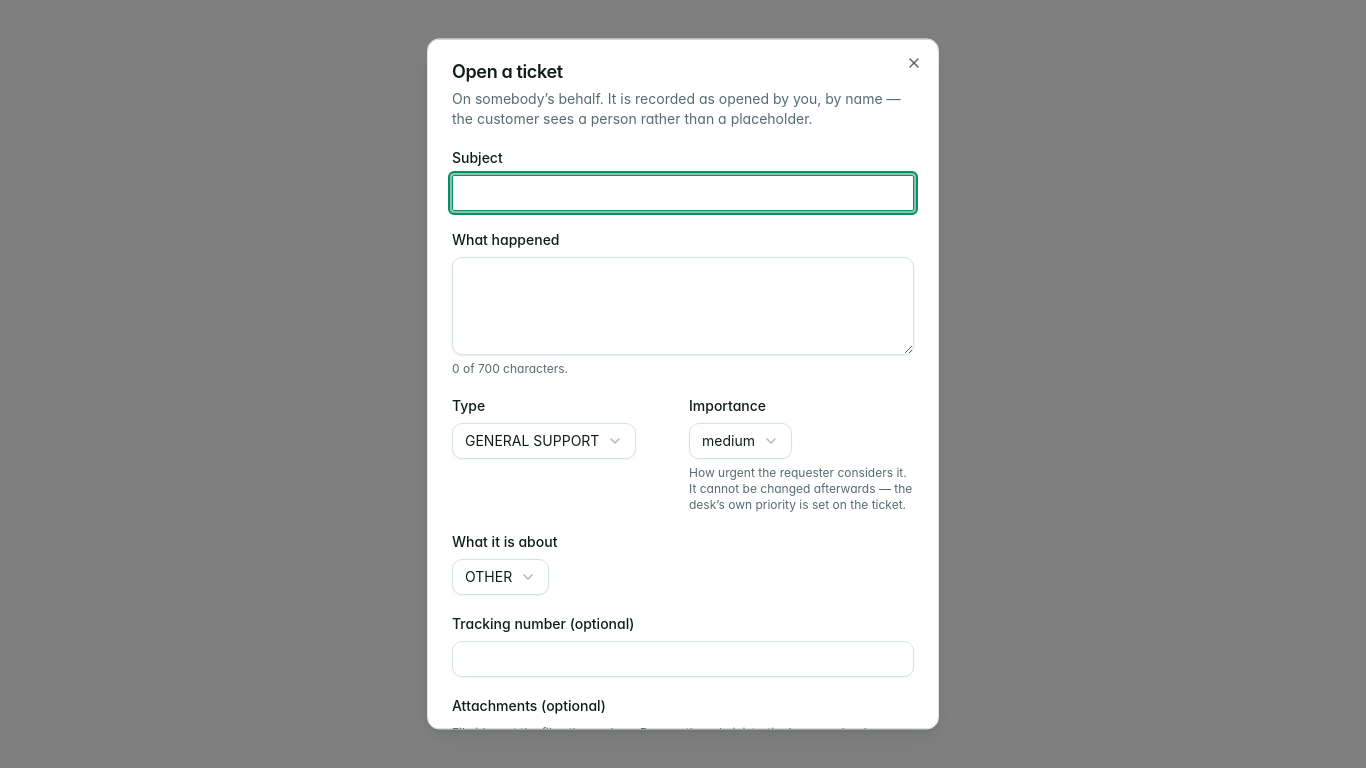
Scenario: the entityId rule wi-admin does not enforce › blocks the submit when an entity type needs an id and has none
The image size is (1366, 768).
Type "Payout has not arrived" into the field labelled "Subject" at coordinates (683, 193), box [452,175,914,211]
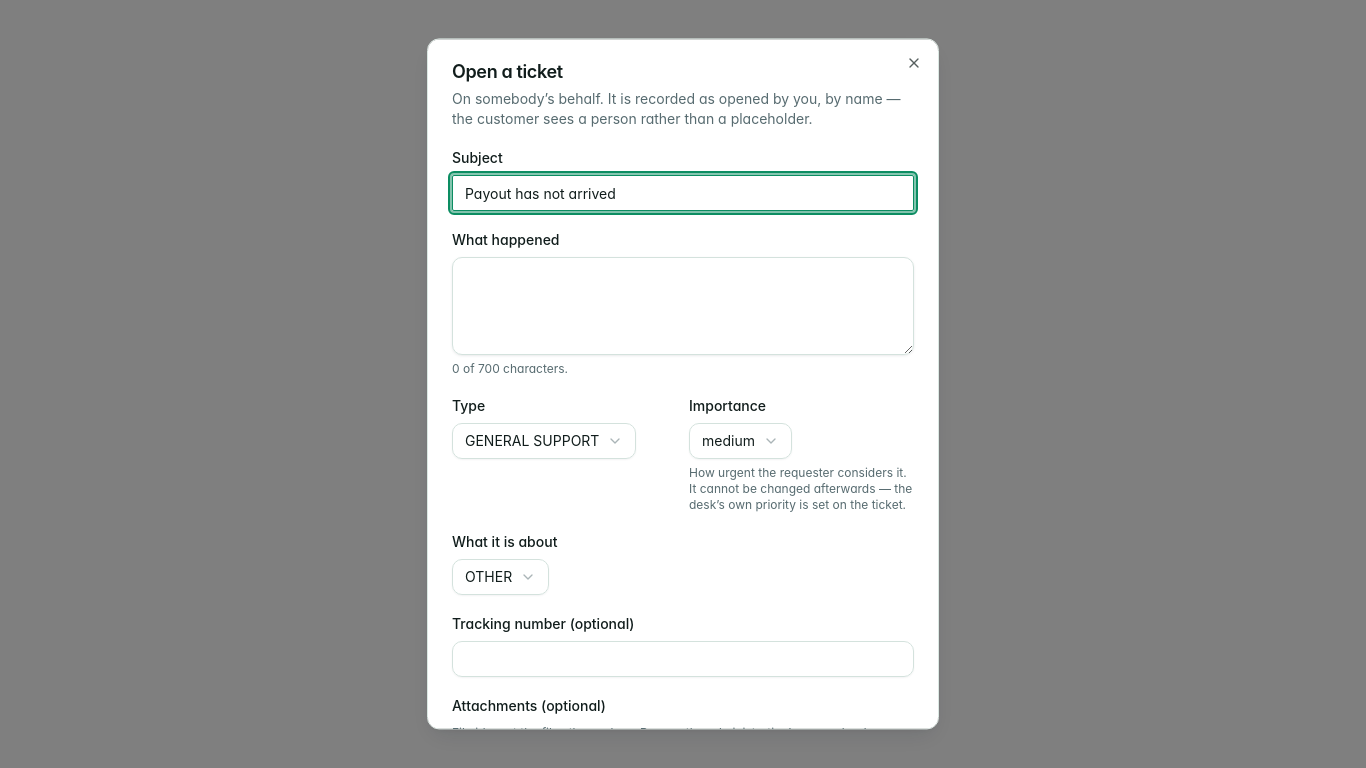
Type "Opened on the vendor’s behalf." into the text box labelled "What happened" at coordinates (683, 306), box [452,257,914,355]
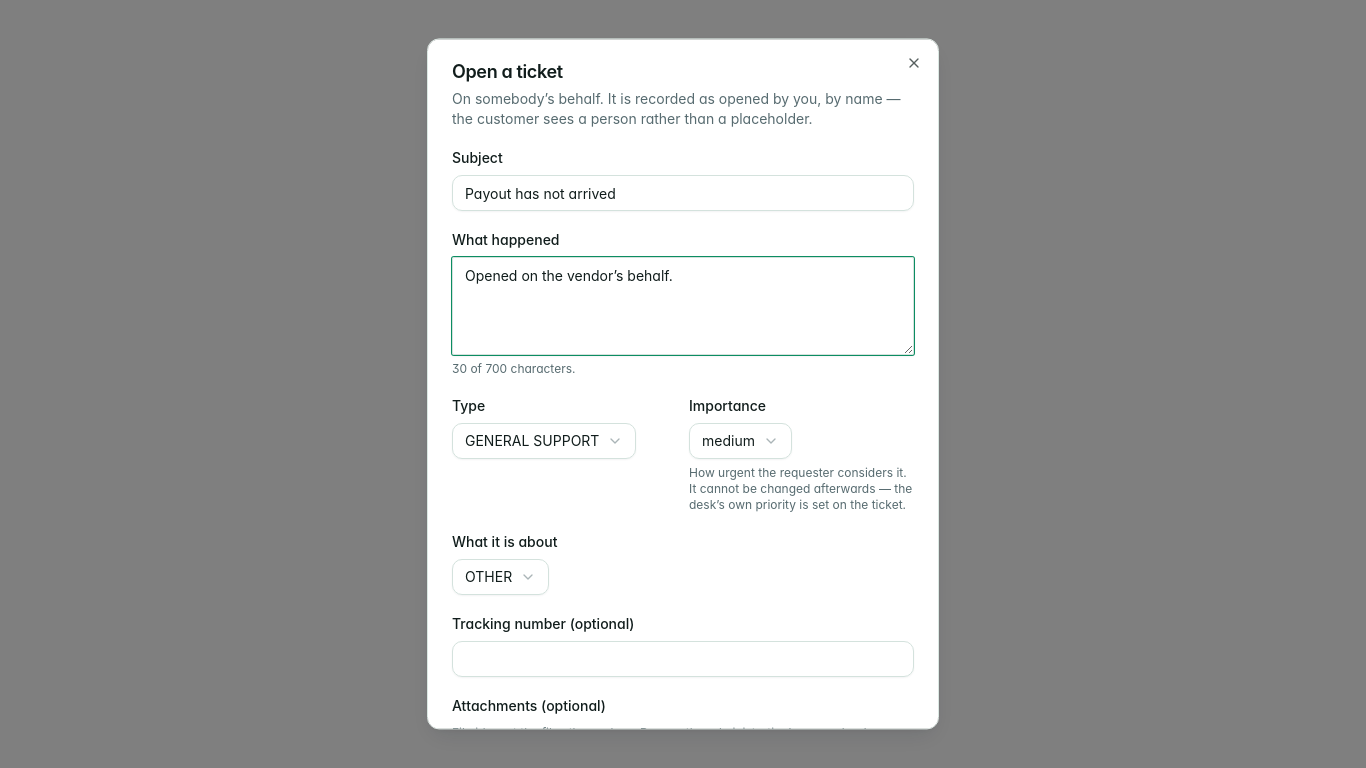
Click the dropdown named "what it is about" at coordinates (501, 577), box [452,559,549,595]
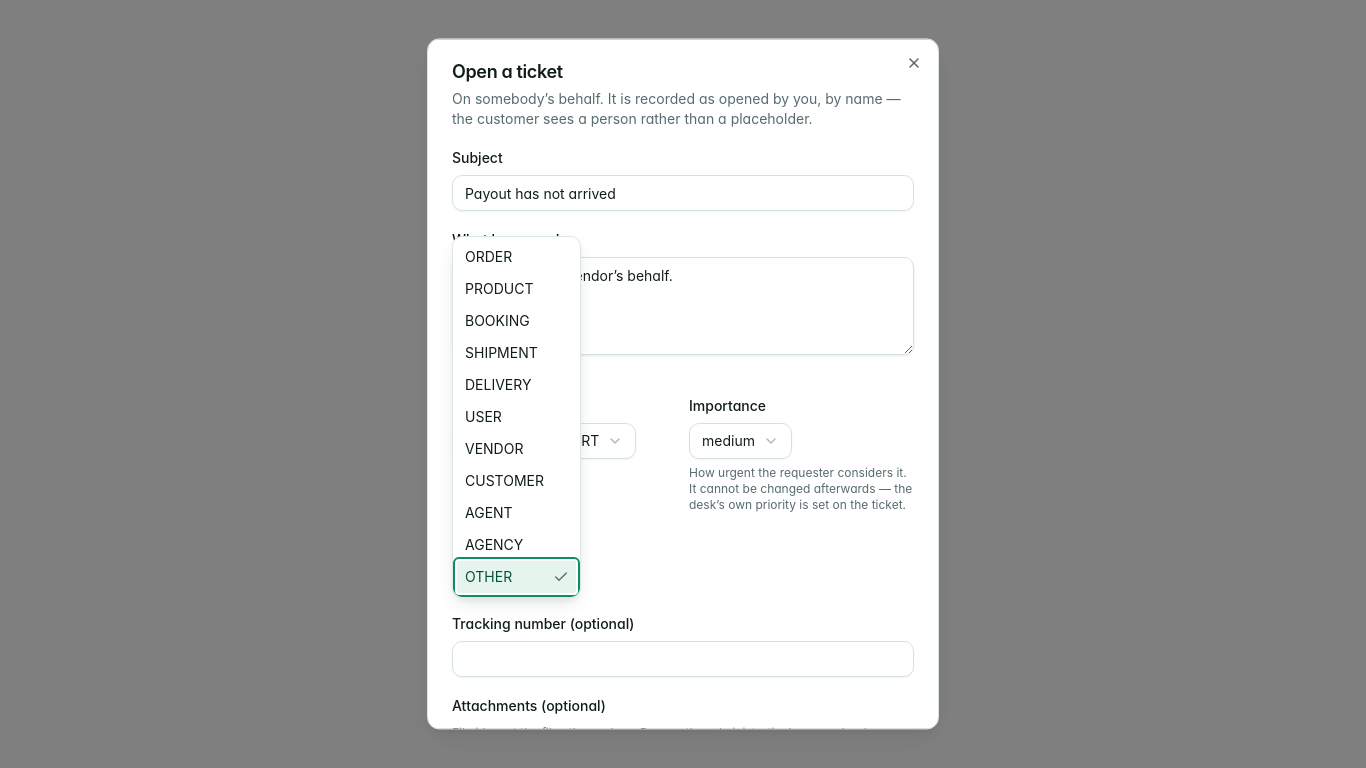
Click the option "ORDER" at coordinates (489, 257), box [465,248,512,265]
(page scrolled)
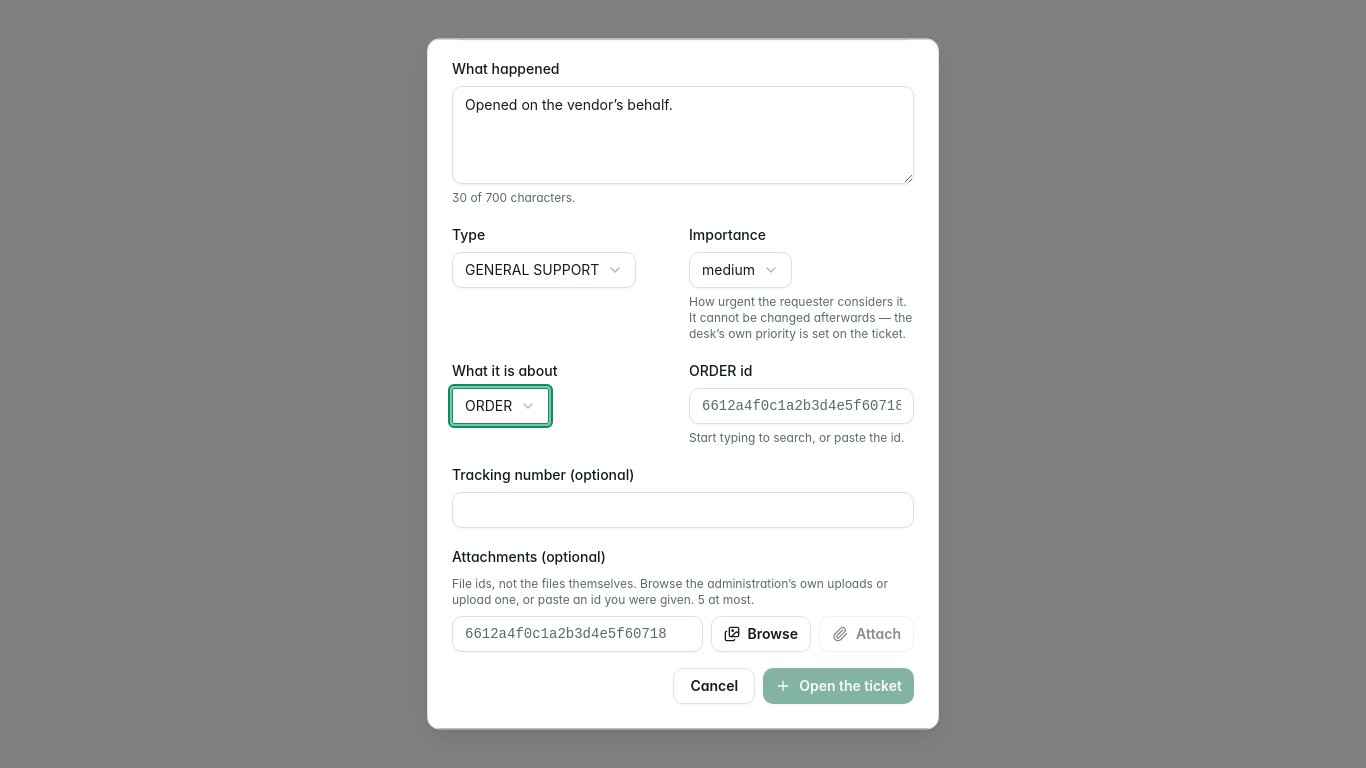
Check: the field labelled "ORDER id" is shown, box [689,388,914,424]
Check: the button "Open the ticket" is disabled, box [763,668,914,704]
